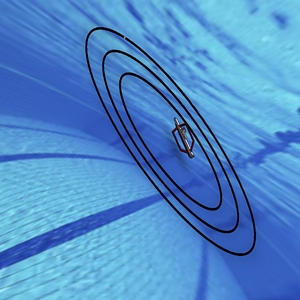circle: (66, 19, 267, 264)
submarine: (166, 114, 203, 161)
